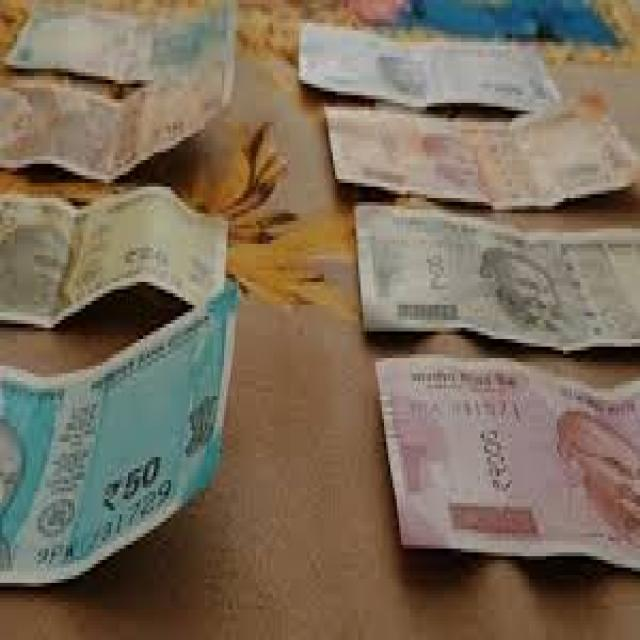money: (320, 96, 626, 219)
